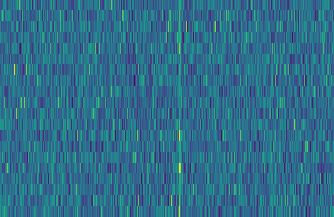signal: (174, 0, 183, 217)
